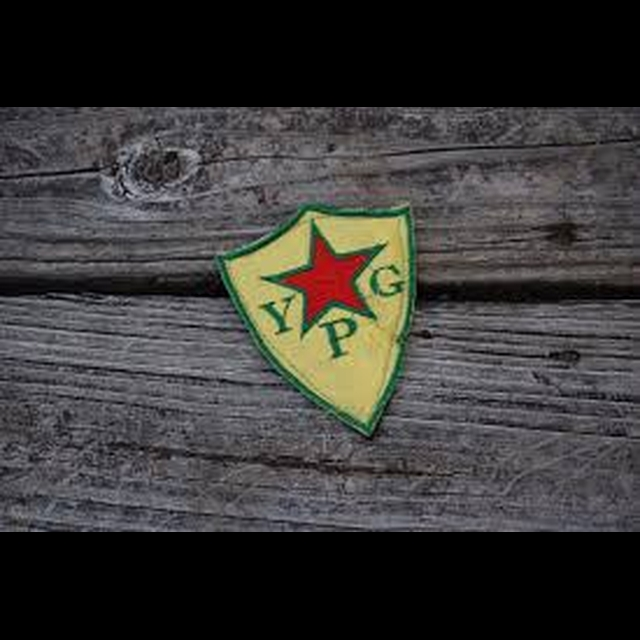YPG: (264, 222, 396, 361)
